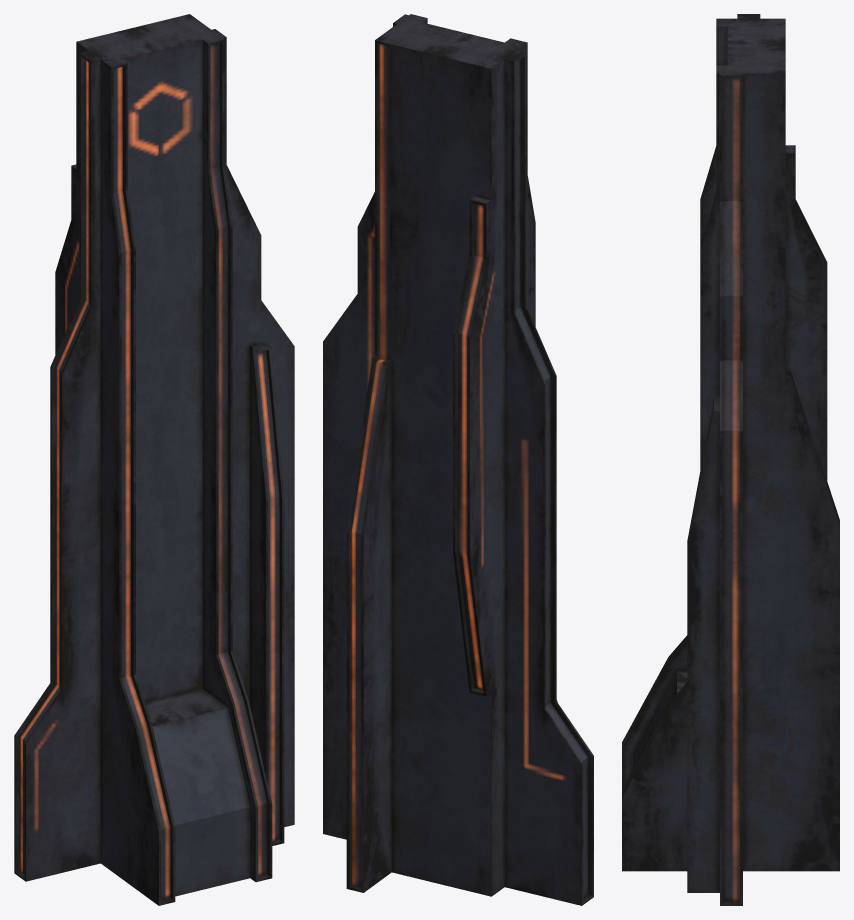
3 views of the same model, side by side, from view 1: azimuth 30°, elevation 25°; view 2: azimuth 150°, elevation 25°; view 3: azimuth 270°, elevation 25° (orthographic). The views are drawn at different scales.
Visible parts, largest first — view 1: SB_06; view 2: SB_06; view 3: SB_06.
Boxes of the visible parts, x1=… form: SB_06: x1=14, y1=14, x2=294, y2=905; SB_06: x1=323, y1=14, x2=593, y2=905; SB_06: x1=622, y1=14, x2=839, y2=905.
Size of the model in its own units: 2445 by 7221 by 1787.
1 material, 1 textured.
